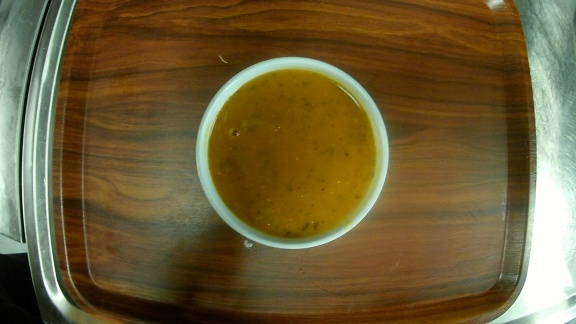ezogelin: (194, 55, 392, 251)
